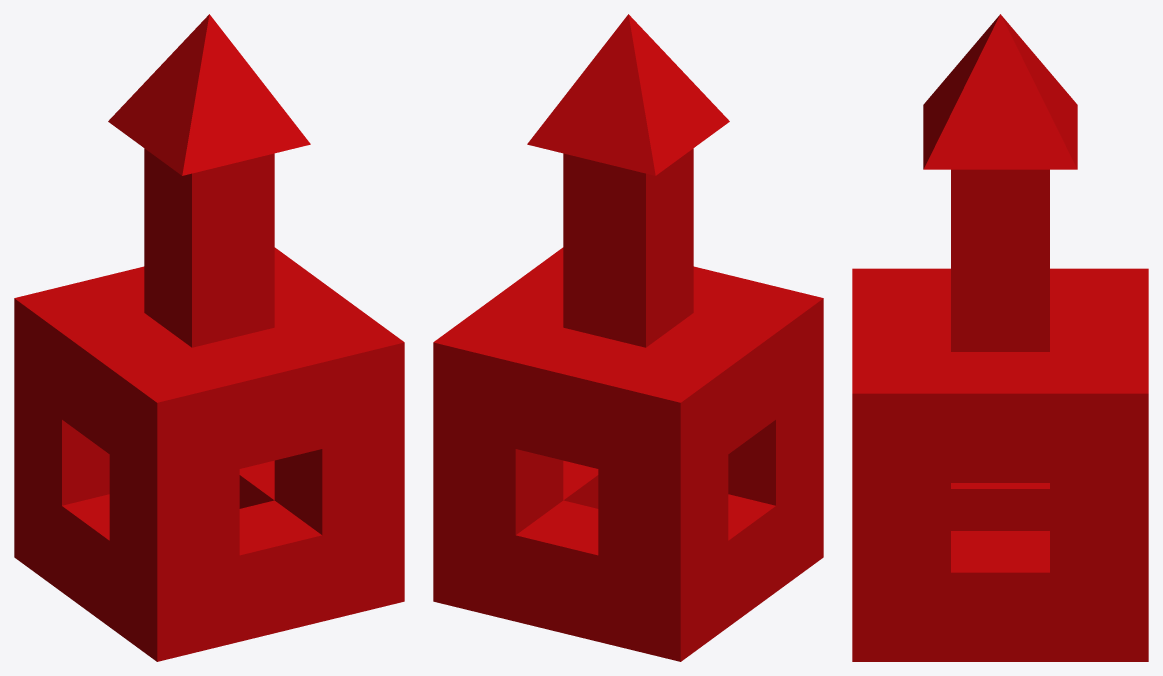
File: SpawnPoint.dae
The picture shows the model from 3 angles, left to right: view 1: azimuth 30°, elevation 25°; view 2: azimuth 150°, elevation 25°; view 3: azimuth 270°, elevation 25°; orthographic projection. The views are drawn at different scales.
Parts seen in each view (by area): view 1: Sponge; view 2: Sponge; view 3: Sponge.
Part boxes in pixels (x1,y1,x2,y2): Sponge: (14, 14, 404, 661); Sponge: (433, 14, 823, 661); Sponge: (852, 14, 1148, 661).
Bounding box in the file's own units: 2 × 2 × 4.36.
